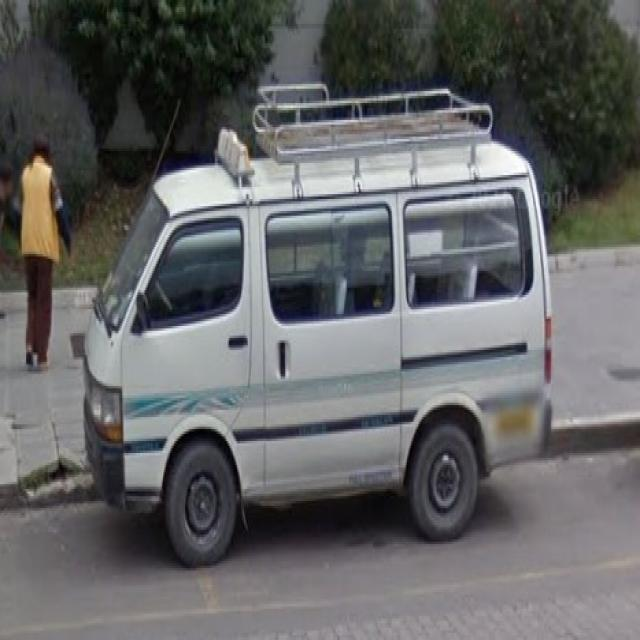Car: (80, 126, 547, 562)
